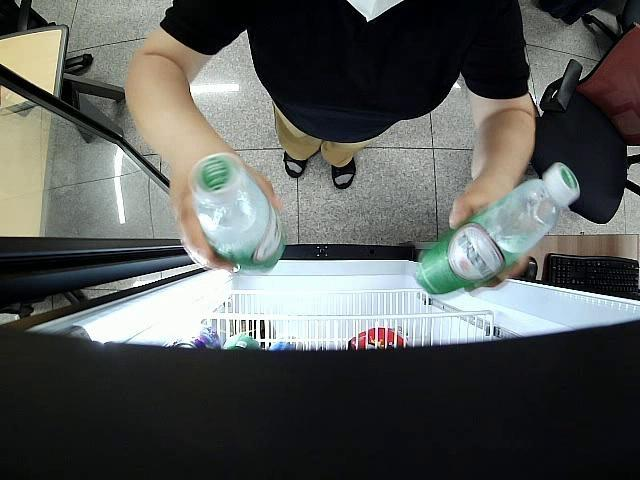18_trevi: (412, 164, 582, 297), (194, 151, 284, 270)
